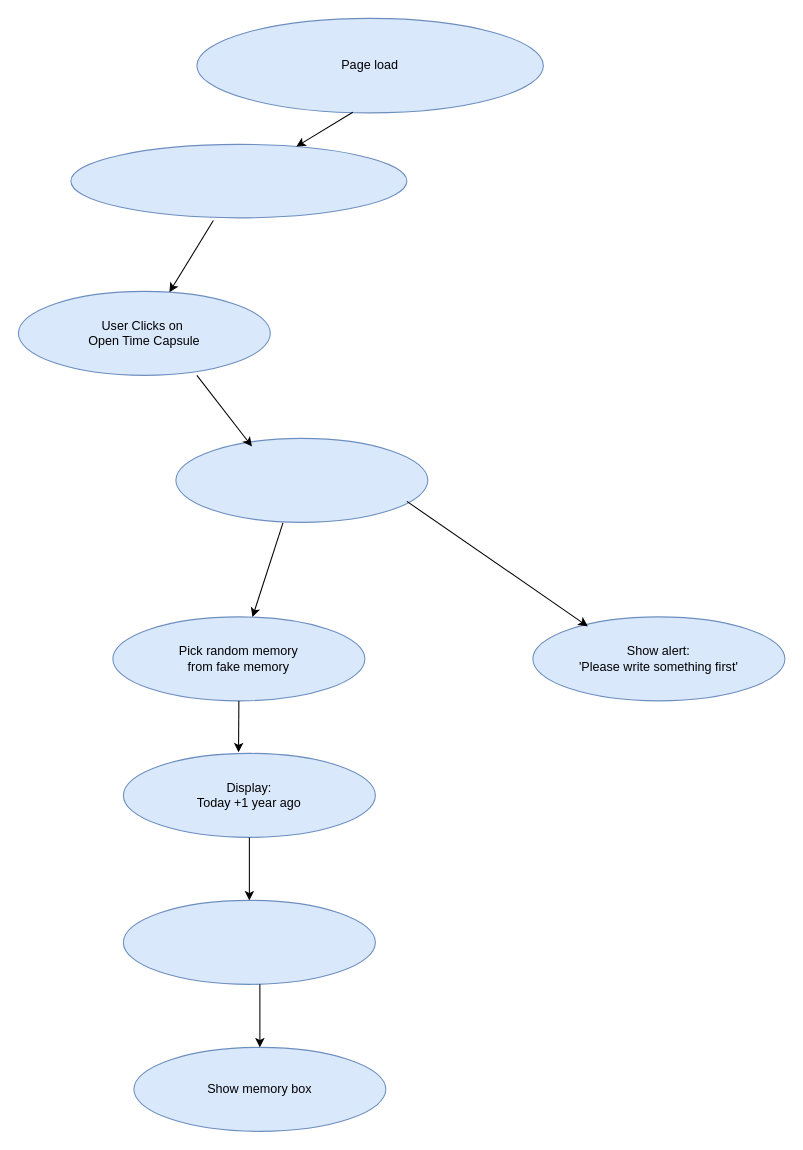
Some shapes in this 803 by 1150 pixel diagram are drawn without their labels. The shapes that lost their labels are listed below. From the top down, each one's box as (x1, y1, x2, y2) in pixels, then its label:
(70, 143, 407, 218): User types in textarea
(175, 437, 428, 522): Check if input is empty
(122, 899, 375, 984): Apply fade in animation
